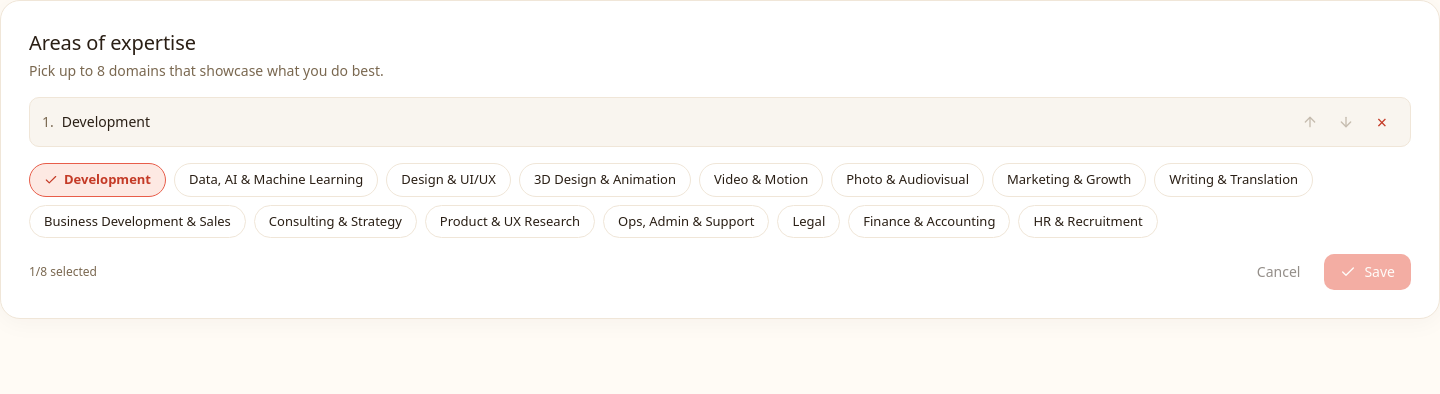
Test: ExpertiseEditor › Cancel button reverts the draft to the persisted list
Click the button "Design & UI/UX": click(449, 180) [386,163,511,196]
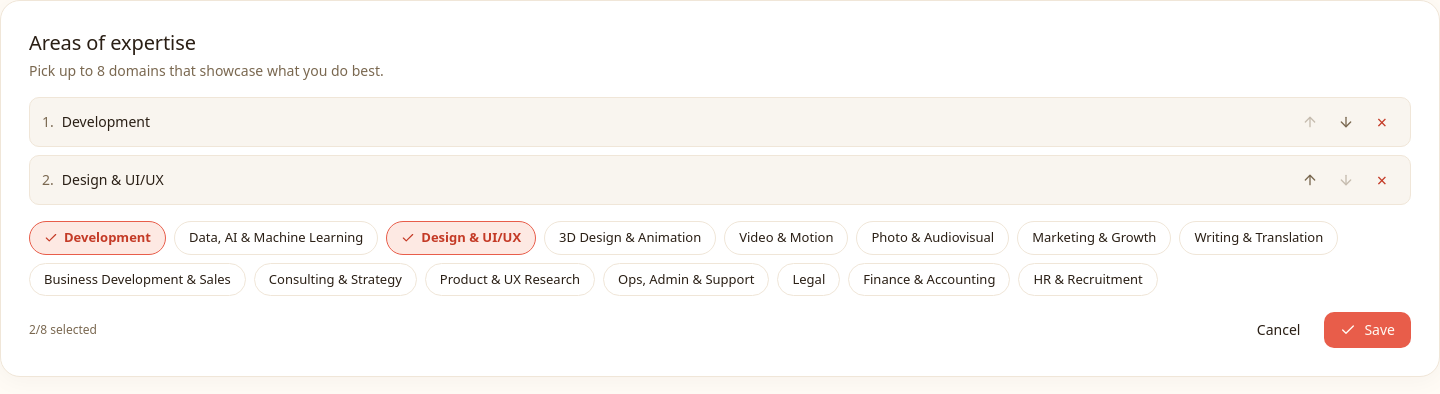
Expected: the text "2/8 selected" is shown, [29,322,97,338]
Click the button "Cancel": click(1279, 330) [1241,312,1316,348]
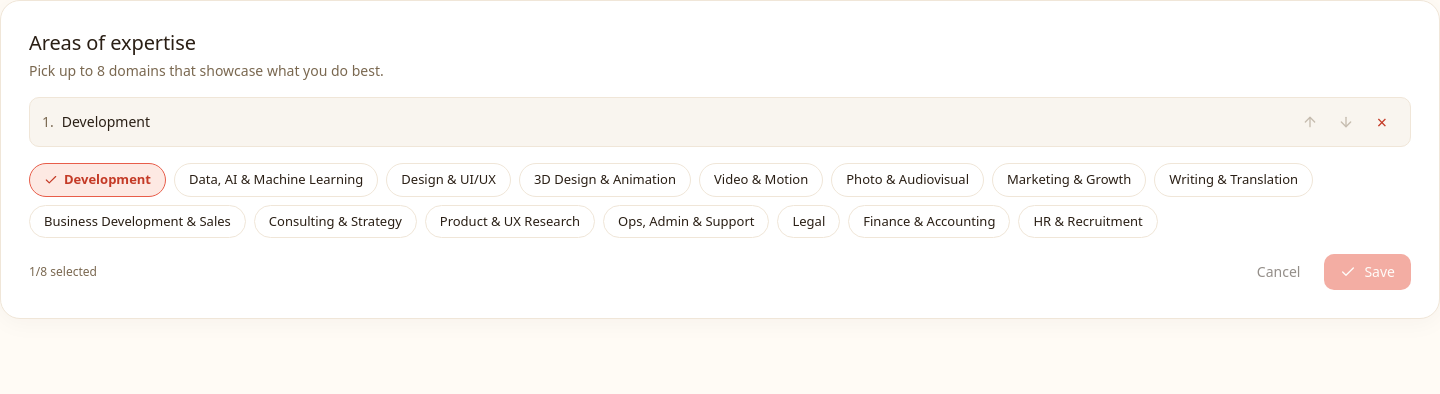
Expected: the text "1/8 selected" is shown, [29,264,97,280]
